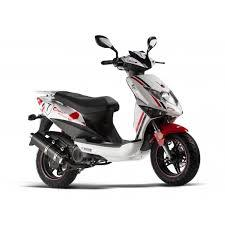motorcycle: (21, 30, 204, 189)
